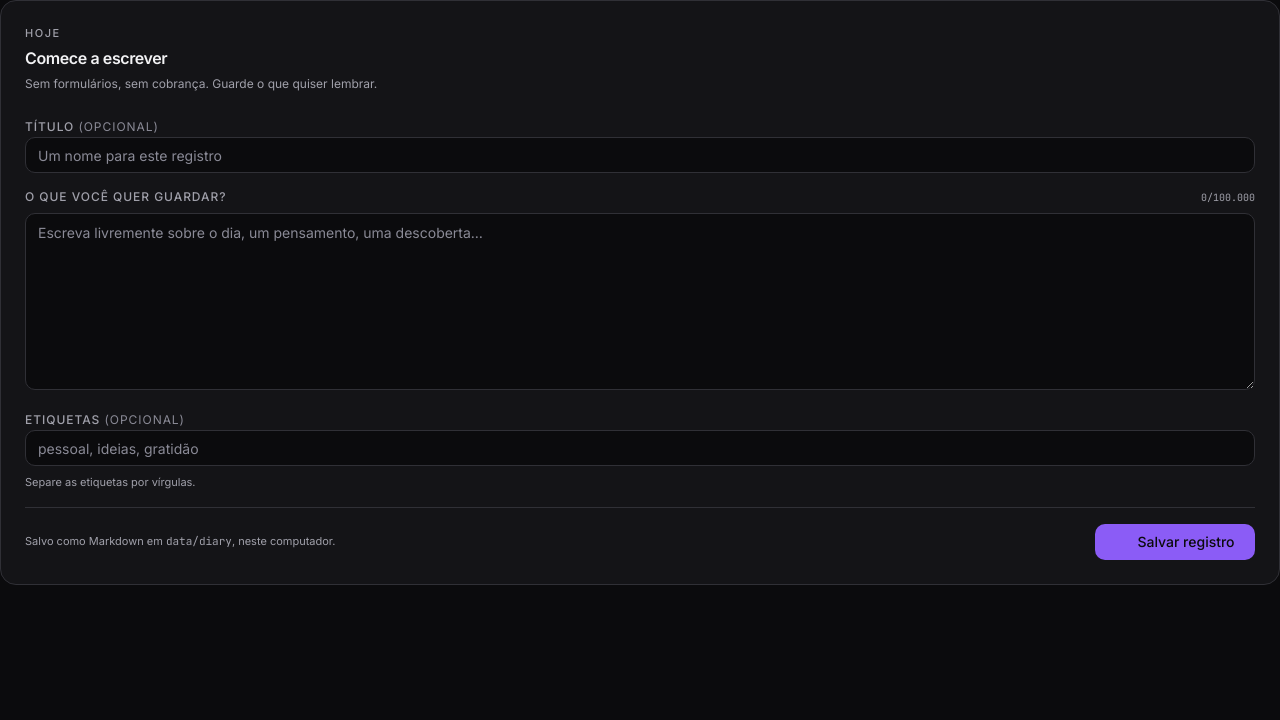
Test case: DiaryComposer › preserva o texto quando o salvamento falha
Type "Um pensamento que não quero perder." into the text box labelled "O que você quer guardar?".
click(640, 302); type("Um pensamento que não quero perder.")  # box [25,213,1255,390]
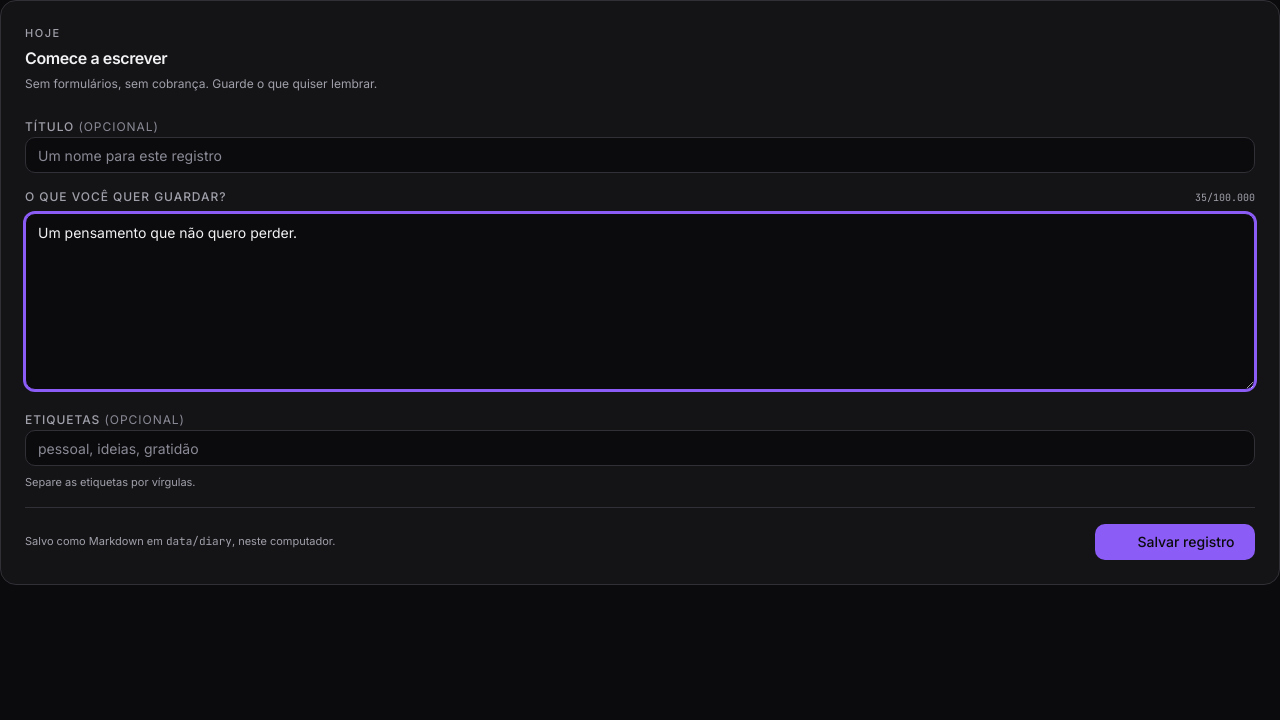
Click the button "Salvar registro".
click(1175, 542)  # box [1095,524,1255,560]
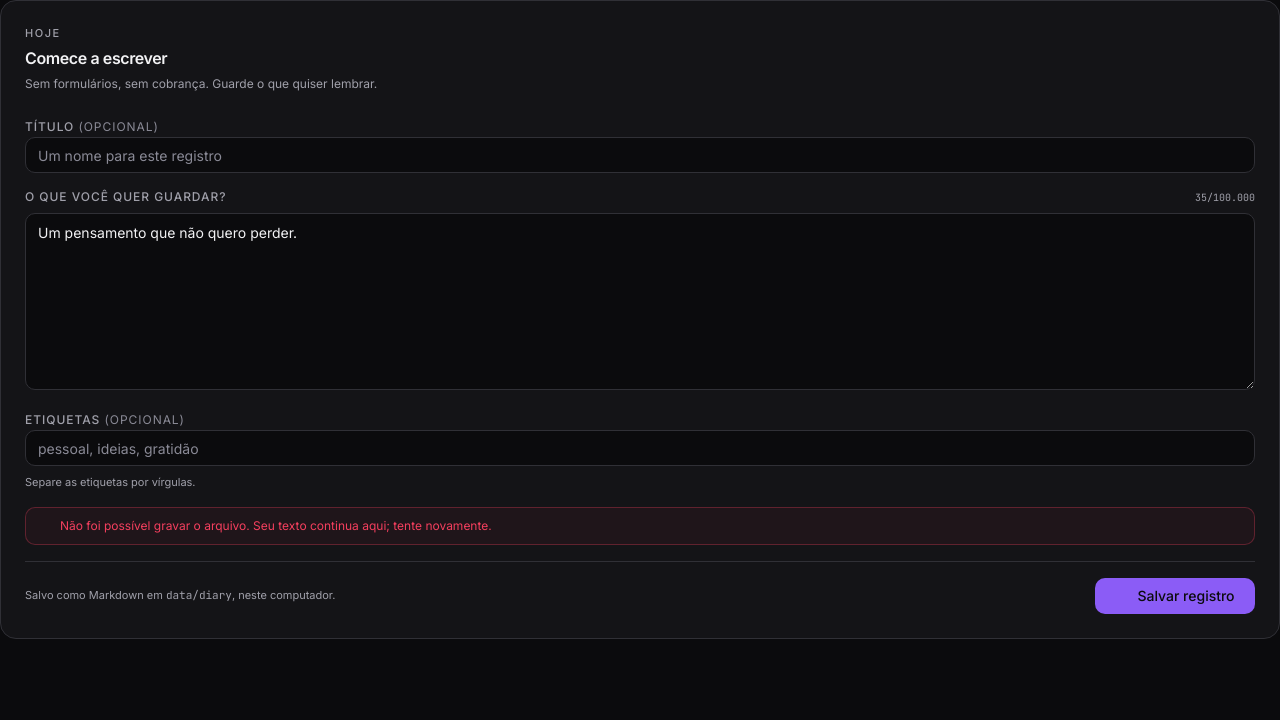
Check: the text "Não foi possível gravar o arquivo." is shown, box [60,518,250,533]
